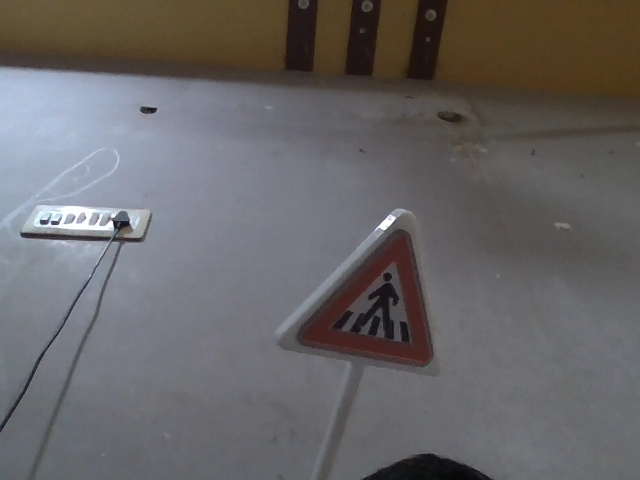crossing: (308, 205, 433, 381)
